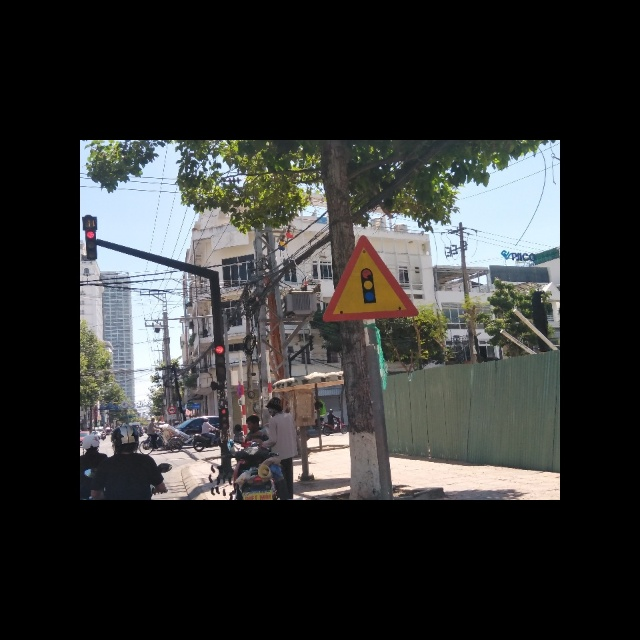Giao nhau có tín hiệu đèn: (322, 232, 421, 321)
Đèn đỏ: (215, 345, 225, 355)
